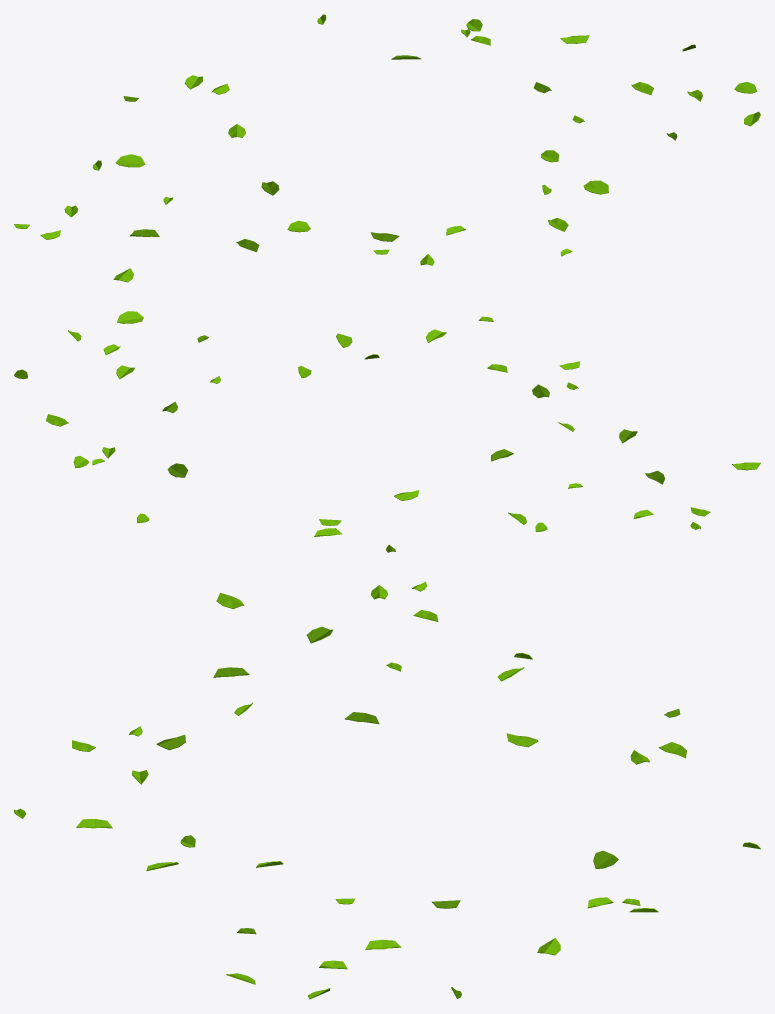
The model's file is Hojas3 .fbx.
3 views of the same model, one above another, from view 1: azimuth 30°, elevation 25°; view 2: azimuth 150°, elevation 25°; view 3: azimuth 270°, elevation 25° (orthographic). The views are drawn at different scales.
Parts seen in each view (by area): view 1: Hojas 3; view 2: Hojas 3; view 3: Hojas 3.
Part boxes in pixels (x1,y1,x2,y2): Hojas 3: (14, 14, 760, 282); Hojas 3: (14, 311, 760, 552); Hojas 3: (14, 581, 760, 999).
Bounding box in the file's own units: 685 × 5.86 × 521.
